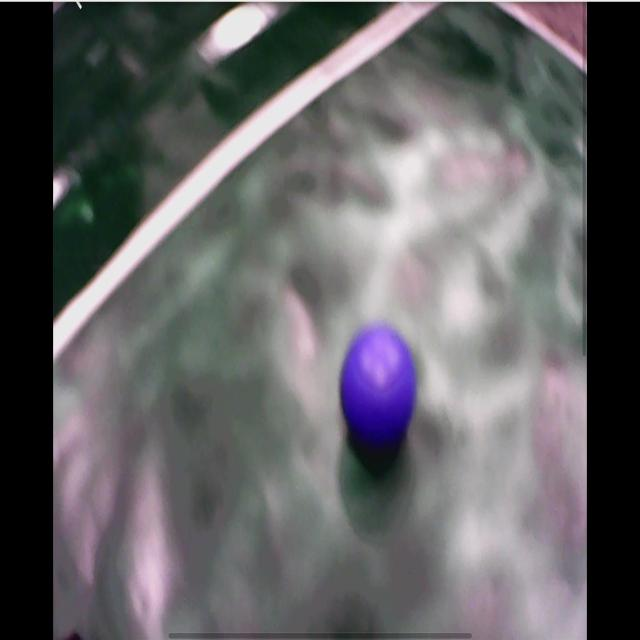ball: (339, 325, 419, 446)
